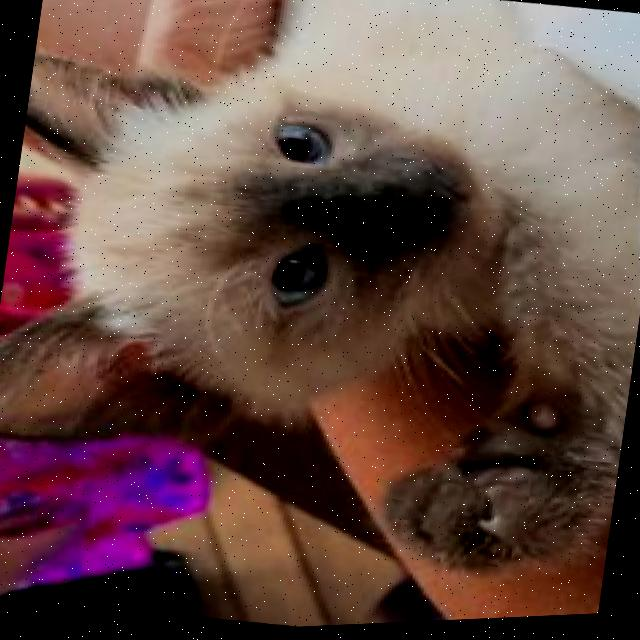Siamese: (0, 0, 640, 618)
